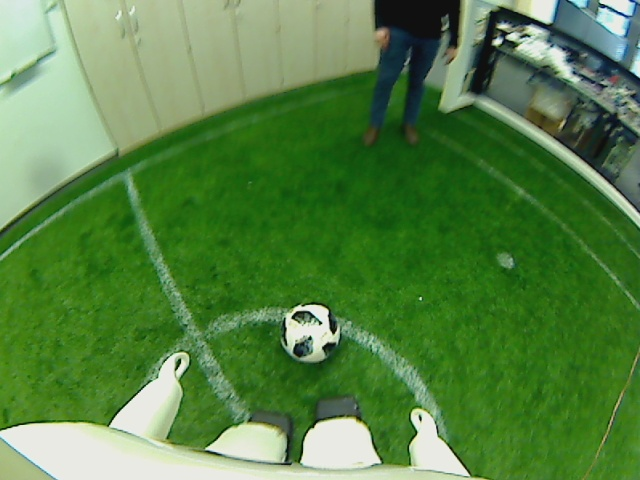ball: (280, 302, 341, 365)
